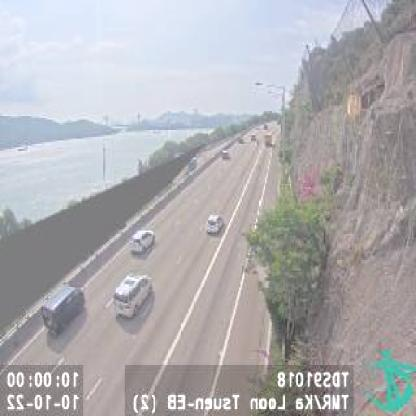Car: (41, 281, 86, 337), (113, 274, 155, 319), (131, 229, 155, 254), (205, 211, 223, 234)
